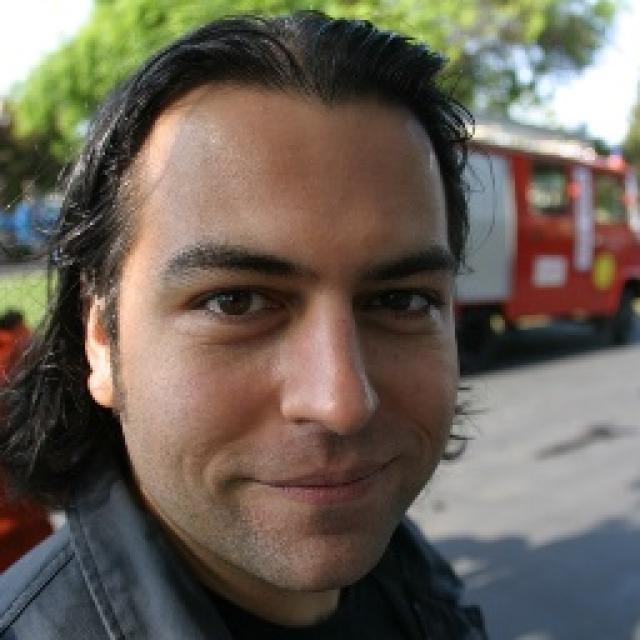earlobe: (80, 266, 118, 408)
